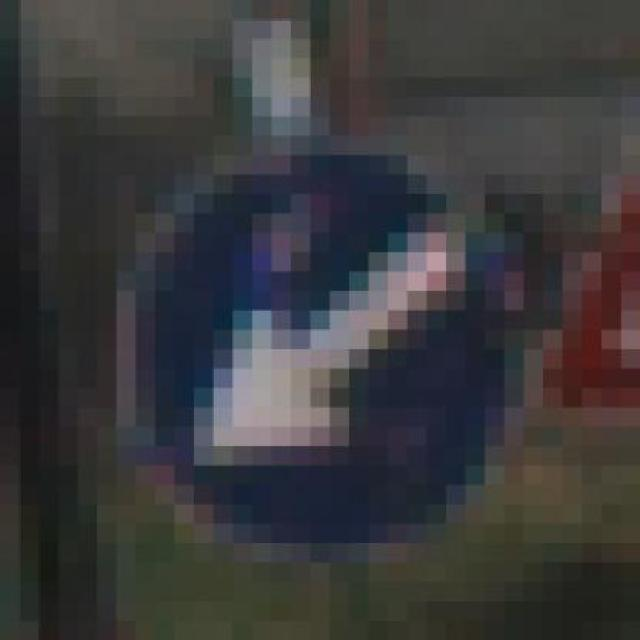Keep-Left: (97, 97, 543, 563)
